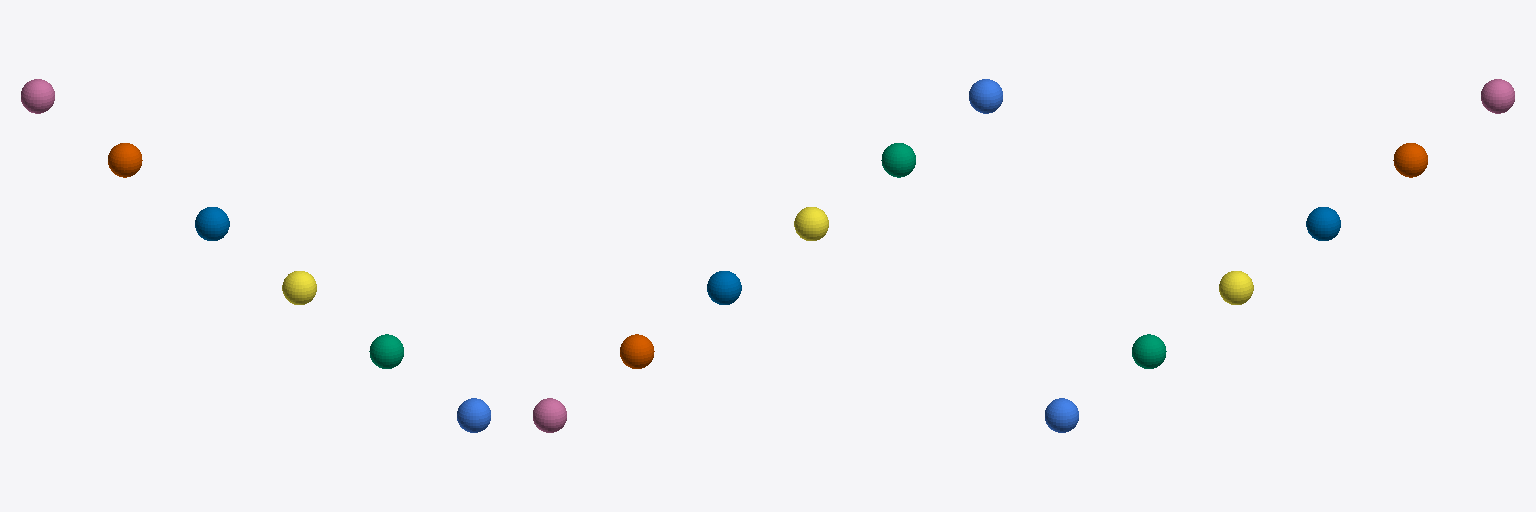
URDF robot description (pendulum):
<?xml version="1.0" encoding="utf-8"?>
<robot name="pendulum">
  <!--
  Author: Erwin Coumans <[email redacted]>
  Contributers:
-->
  
  <link name="world"/>
  <material name="Blue">
    <color rgba="0.28 0.52 0.92 1.0"/>
  </material>
  <link name="link0">
    <visual>
      <geometry>
        <sphere radius="0.05"/>
      </geometry>
      <origin rpy="0 0 0" xyz="0 0.5 0"/>
      <material name="Blue"/>
    </visual>
    <collision>
      <geometry>
        <sphere radius="0.05"/>
      </geometry>
      <origin rpy="0 0 0" xyz="0 0.5 0"/>
    </collision>
    <inertial>
      <origin rpy="0 0 0" xyz="0 0.5 0"/>
      <mass value="1."/>
      <inertia ixx="0.00494875" ixy="0" ixz="0" iyy="0.00494174" iyz="0" izz="0.002219"/>
    </inertial>
  </link>
  <joint name="joint0" type="continuous">
    <parent link="world"/>
    <child link="link0"/>
    <origin rpy="0 0 0" xyz="0 0 0"/>
    <axis xyz="1 0 0"/>
    <dynamics damping="1.0" friction="1.0"/>
  </joint>
  <link name="link1">
    <visual>
      <geometry>
        <sphere radius="0.05"/>
      </geometry>
      <origin rpy="0 0 0" xyz="0 0.5 0"/>
      <material name="Red"/>
    </visual>
    <collision>
      <geometry>
        <sphere radius="0.05"/>
      </geometry>
      <origin rpy="0 0 0" xyz="0 0.5 0"/>
    </collision>
    <inertial>
      <origin rpy="0 0 0" xyz="0 0.5 0"/>
      <mass value="2.16"/>
      <inertia ixx="0.00539427" ixy="0" ixz="0" iyy="0.0048979" iyz="0" izz="0.00311573"/>
    </inertial>
  </link>
  <joint name="joint1" type="continuous">
    <parent link="link0"/>
    <child link="link1"/>
    <origin rpy="0 0 0" xyz="0 0.5 0"/>
    <axis xyz="1 0 0"/>
    <dynamics damping="1.0" friction="1.0"/>
  </joint>
 <link name="link2">
    <visual>
      <geometry>
        <sphere radius="0.05"/>
      </geometry>
      <origin rpy="0 0 0" xyz="0 0.5 0"/>
      <material name="Red"/>
    </visual>
    <collision>
      <geometry>
        <sphere radius="0.05"/>
      </geometry>
      <origin rpy="0 0 0" xyz="0 0.5 0"/>
    </collision>
    <inertial>
      <origin rpy="0 0 0" xyz="0 0.5 0"/>
      <mass value="2.16"/>
      <inertia ixx="0.00539427" ixy="0" ixz="0" iyy="0.0048979" iyz="0" izz="0.00311573"/>
    </inertial>
  </link>
  <joint name="joint2" type="continuous">
    <parent link="link1"/>
    <child link="link2"/>
    <origin rpy="0 0 0" xyz="0 0.5 0"/>
    <axis xyz="1 0 0"/>
    <dynamics damping="1.0" friction="1.0"/>
  </joint>
  <link name="link3">
    <visual>
      <geometry>
        <sphere radius="0.05"/>
      </geometry>
      <origin rpy="0 0 0" xyz="0 0.5 0"/>
      <material name="Red"/>
    </visual>
    <collision>
      <geometry>
        <sphere radius="0.05"/>
      </geometry>
      <origin rpy="0 0 0" xyz="0 0.5 0"/>
    </collision>
    <inertial>
      <origin rpy="0 0 0" xyz="0 0.5 0"/>
      <mass value="2.16"/>
      <inertia ixx="0.00539427" ixy="0" ixz="0" iyy="0.0048979" iyz="0" izz="0.00311573"/>
    </inertial>
  </link>
  <joint name="joint3" type="continuous">
    <parent link="link2"/>
    <child link="link3"/>
    <origin rpy="0 0 0" xyz="0 0.5 0"/>
    <axis xyz="1 0 0"/>
    <dynamics damping="1.0" friction="1.0"/>
  </joint>
   <link name="link4">
    <visual>
      <geometry>
        <sphere radius="0.05"/>
      </geometry>
      <origin rpy="0 0 0" xyz="0 0.5 0"/>
      <material name="Red"/>
    </visual>
    <collision>
      <geometry>
        <sphere radius="0.05"/>
      </geometry>
      <origin rpy="0 0 0" xyz="0 0.5 0"/>
    </collision>
    <inertial>
      <origin rpy="0 0 0" xyz="0 0.5 0"/>
      <mass value="2.16"/>
      <inertia ixx="0.00539427" ixy="0" ixz="0" iyy="0.0048979" iyz="0" izz="0.00311573"/>
    </inertial>
  </link>
  <joint name="joint4" type="continuous">
    <parent link="link3"/>
    <child link="link4"/>
    <origin rpy="0 0 0" xyz="0 0.5 0"/>
    <axis xyz="1 0 0"/>
    <dynamics damping="1.0" friction="1.0"/>
  </joint>
   <link name="link5">
    <visual>
      <geometry>
        <sphere radius="0.05"/>
      </geometry>
      <origin rpy="0 0 0" xyz="0 0.5 0"/>
      <material name="Red"/>
    </visual>
    <collision>
      <geometry>
        <sphere radius="0.05"/>
      </geometry>
      <origin rpy="0 0 0" xyz="0 0.5 0"/>
    </collision>
    <inertial>
      <origin rpy="0 0 0" xyz="0 0.5 0"/>
      <mass value="2.16"/>
      <inertia ixx="0.00539427" ixy="0" ixz="0" iyy="0.0048979" iyz="0" izz="0.00311573"/>
    </inertial>
  </link>
  <joint name="joint5" type="continuous">
    <parent link="link4"/>
    <child link="link5"/>
    <origin rpy="0 0 0" xyz="0 0.5 0"/>
    <axis xyz="1 0 0"/>
    <dynamics damping="1.0" friction="1.0"/>
  </joint>

 <link name="link-1">
    <visual>
      <geometry>
        <sphere radius="0.05"/>
      </geometry>
      <origin rpy="0 0 0" xyz="0 0. 0"/>
      <material name="Red"/>
    </visual>
    <inertial>
      <origin rpy="0 0 0" xyz="0 0. 0"/>
      <mass value="0.01"/>
      <inertia ixx="0.0001" ixy="0" ixz="0" iyy="0.0001" iyz="0" izz="0.0001"/>
    </inertial>
  </link>
  <joint name="jointfix" type="fixed">
    <parent link="link5"/>
    <child link="link-1"/>
    <dynamics damping="1.0" friction="0.0001"/>
    <origin rpy="0.00000 -0.00000 0.00000" xyz="0 0.5 0"/>
    <axis xyz="0.00000 0.00000 0.00000"/>
  </joint>
</robot>

--- Render facts (derived) ---
Views: 3 orthographic renders of the robot side by side, from view 1: azimuth 30°, elevation 25°; view 2: azimuth 150°, elevation 25°; view 3: azimuth 330°, elevation 25°.
Model pendulum with 8 links and 7 joints (6 continuous, 1 fixed), rooted at world, posed all joints at 0.
Visible links, largest first — view 1: link1, link4, link2, link3, link0, link5; view 2: link1, link4, link2, link3, link0, link5; view 3: link1, link4, link2, link3, link0, link5.
Boxes of the visible links, box(x1,y1,x2,y2) form: link1: box(369, 334, 403, 368); link4: box(108, 143, 142, 177); link2: box(282, 271, 316, 304); link3: box(195, 207, 229, 240); link0: box(457, 398, 490, 432); link5: box(21, 79, 54, 113); link1: box(881, 143, 915, 177); link4: box(620, 334, 654, 368); link2: box(794, 207, 828, 240); link3: box(707, 271, 741, 304); link0: box(969, 79, 1002, 113); link5: box(533, 398, 566, 432); link1: box(1132, 334, 1166, 368); link4: box(1393, 143, 1427, 177); link2: box(1219, 271, 1253, 304); link3: box(1306, 207, 1340, 240); link0: box(1045, 398, 1078, 432); link5: box(1481, 79, 1514, 113).
Size in the robot's own frame: 0.1 by 2.6 by 0.1 metres.
Geometry: primitives only (box / cylinder / sphere), no mesh files.
